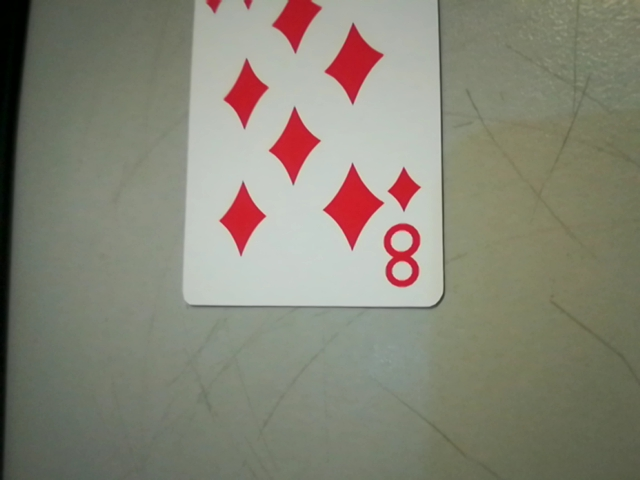fk 8: (375, 164, 437, 300)
